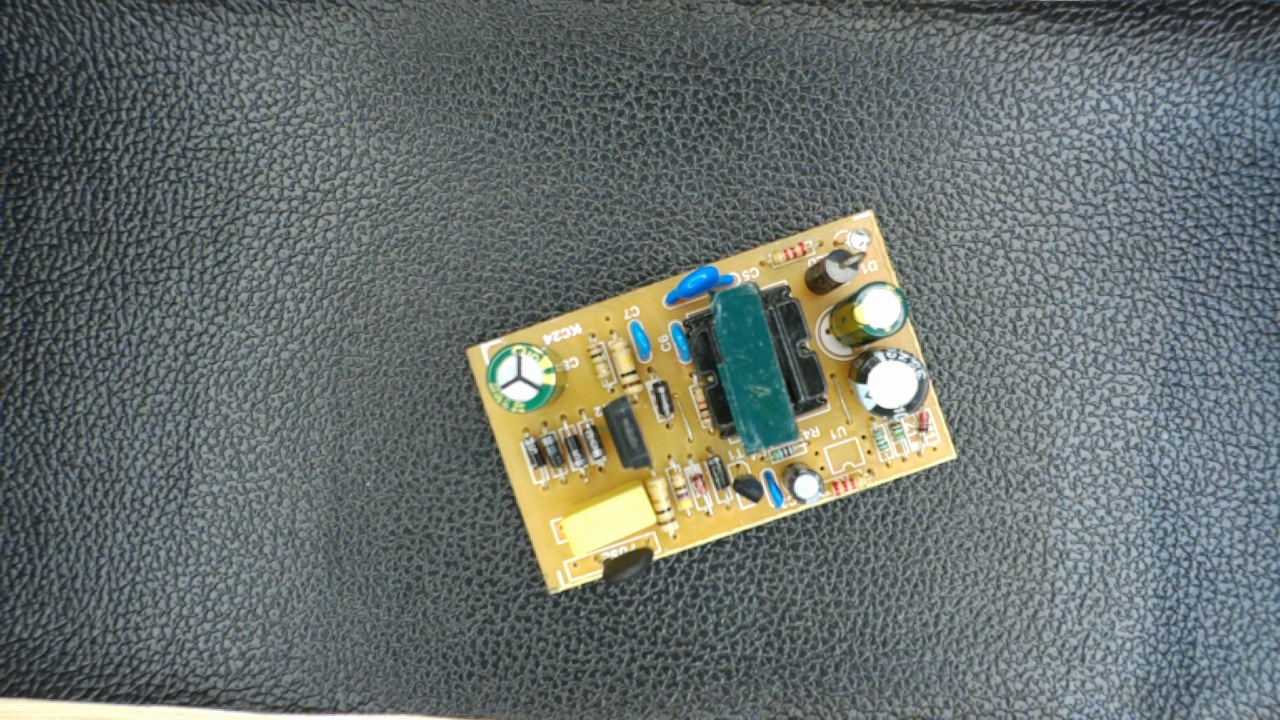fuse: (581, 534, 668, 587)
hv_capacitor: (480, 342, 570, 414)
mov: (657, 261, 740, 308)
